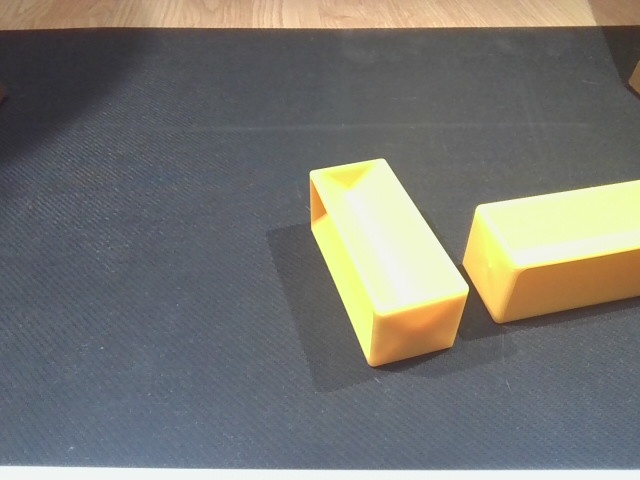YellowSample: (303, 156, 468, 367), (458, 175, 640, 324)
